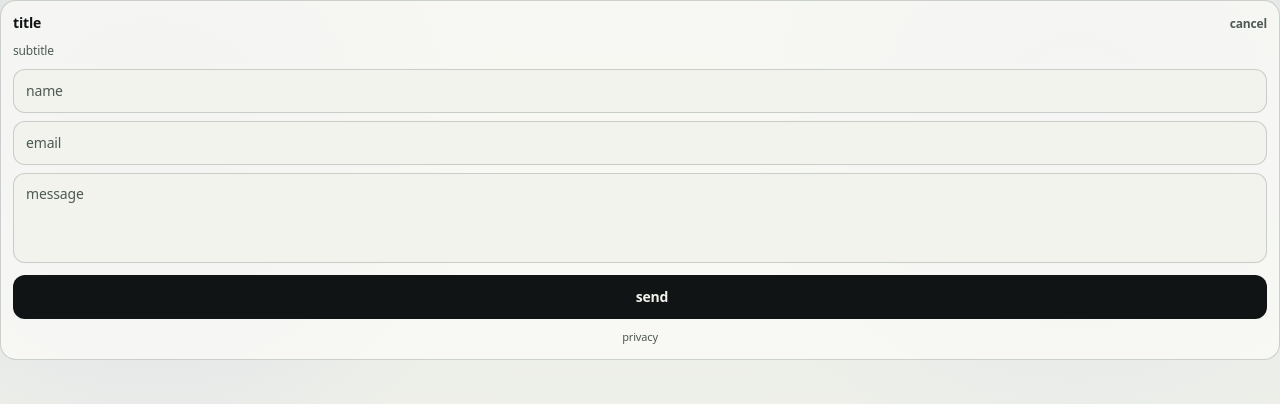
Test case: ChatContactForm › blocks submission until the payload is valid
This screenshot has width=1280, height=404.
Type "A" into the field with placeholder "name".
click(640, 91); type("A")  # box [13,69,1267,113]
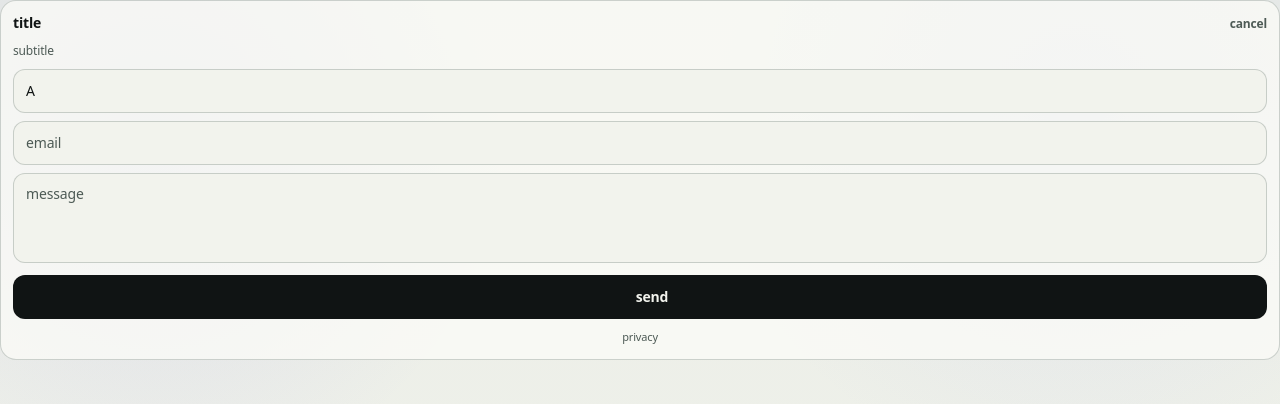
Type "not-an-email" into the field with placeholder "email".
click(640, 143); type("not-an-email")  # box [13,121,1267,165]
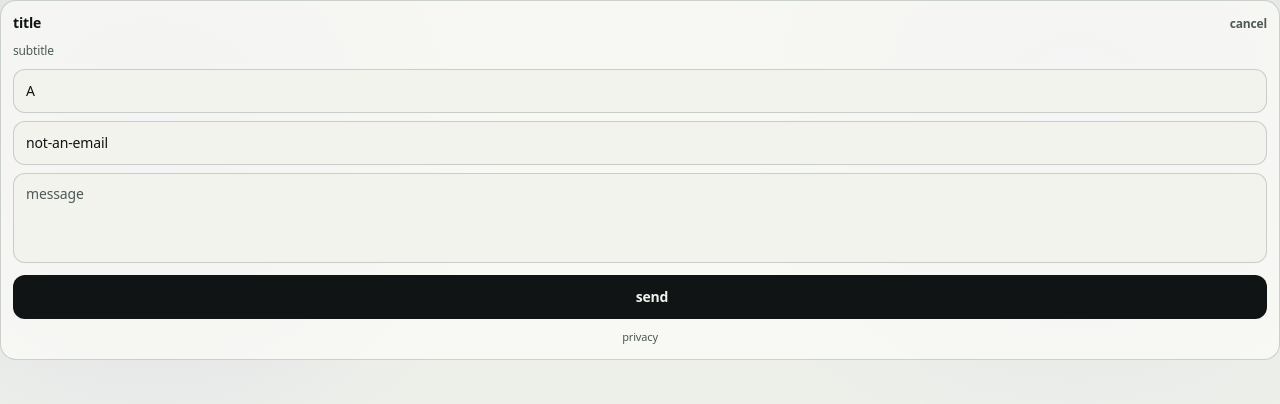
Type "short" into the text box with placeholder "message".
click(640, 218); type("short")  # box [13,173,1267,263]
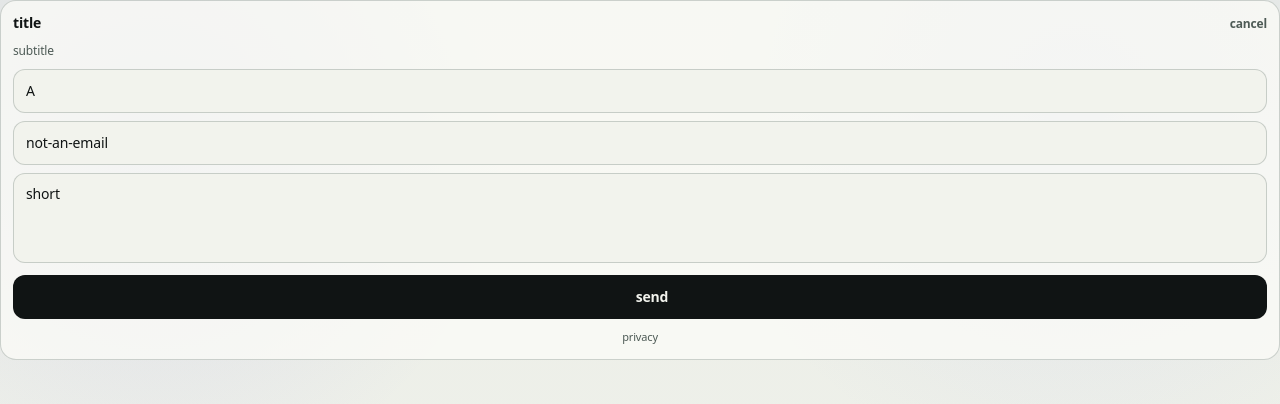
Submit the form with test id "chat-contact-form"
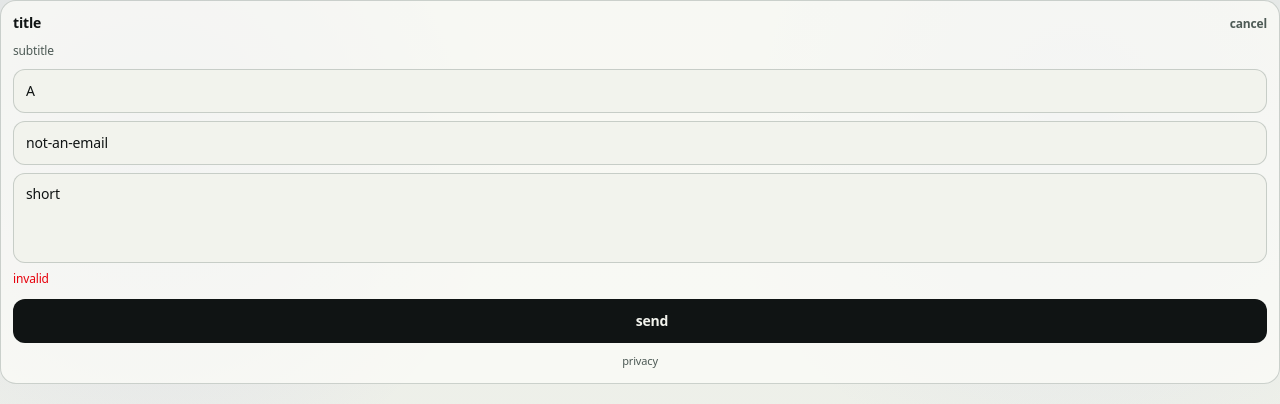
Check: the message reads "invalid", box [13,270,49,287]
